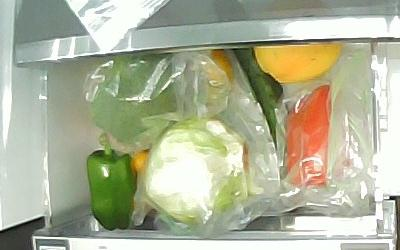broccoli_vinyl: (84, 53, 181, 147)
cucumber: (232, 49, 292, 179)
grapefruit: (253, 42, 343, 83)
lettuce_vinyl: (146, 115, 254, 225)
paprika: (87, 134, 138, 232)
paprika_vinyl: (285, 84, 331, 189)
